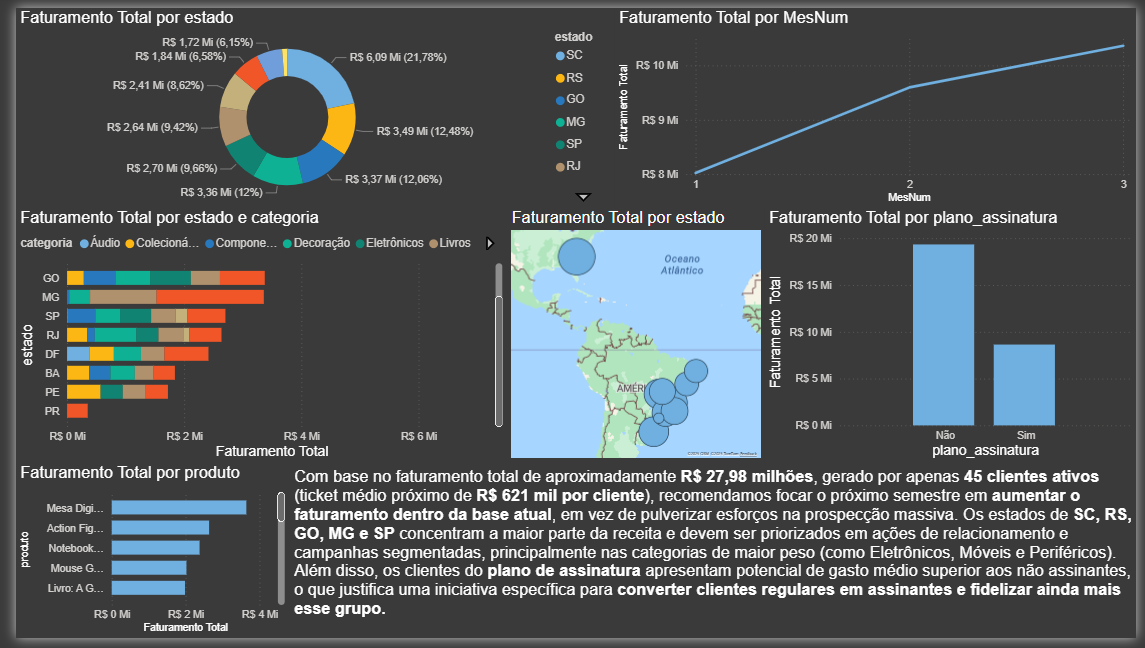

What the dashboard file says about the page in this screenshot:
{"tool":"powerbi","page":{"name":"Dashboard Estratégico","canvas":[1280,720],"ordinal":1},"visuals":[{"type":"lineChart","fields":{"Category":["vendas.MesNum"],"Y":["vendas.Faturamento Total"]},"box":[683.8,0,596.2,228.8],"z":0},{"type":"clusteredBarChart","fields":{"Category":["vendas.produto"],"Y":["vendas.Faturamento Total"]},"box":[0,520,312.5,200],"z":1000},{"type":"azureMap","fields":{"Category":["clientes.estado"],"Size":["vendas.Faturamento Total"]},"box":[561.2,228.8,295,291.2],"z":1001},{"type":"columnChart","fields":{"Category":["clientes.plano_assinatura"],"Y":["vendas.Faturamento Total"]},"box":[856.2,228.8,423.8,291.2],"z":1002},{"type":"donutChart","fields":{"Category":["clientes.estado"],"Y":["vendas.Faturamento Total"]},"box":[0,0,683.8,228.8],"z":1003},{"type":"barChart","fields":{"Category":["clientes.estado"],"Series":["vendas.categoria"],"Y":["vendas.Faturamento Total"]},"box":[0,228.8,561.2,291.2],"z":1004},{"type":"textbox","box":[312.5,520,967.5,200],"z":1005}]}

Visuals, with their boxes in screenshot pixels (x1, y1, x2, y2), scaled from the page's 1280x720 canvas onto the 1145x648 screenshot:
lineChart - vendas.MesNum x vendas.Faturamento Total: Rect(612, 0, 1144, 206)
clusteredBarChart - vendas.produto x vendas.Faturamento Total: Rect(0, 468, 280, 647)
azureMap - clientes.estado x vendas.Faturamento Total: Rect(502, 206, 766, 468)
columnChart - clientes.plano_assinatura x vendas.Faturamento Total: Rect(766, 206, 1144, 468)
donutChart - clientes.estado x vendas.Faturamento Total: Rect(0, 0, 612, 206)
barChart - clientes.estado x vendas.categoria: Rect(0, 206, 502, 468)
textbox: Rect(280, 468, 1144, 647)
